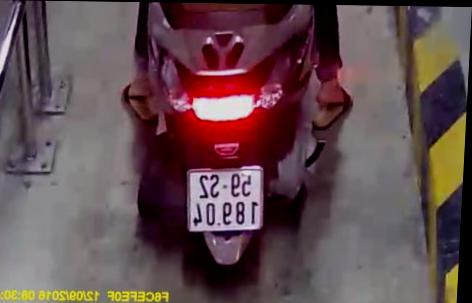License_Plate: (167, 161, 269, 239)
